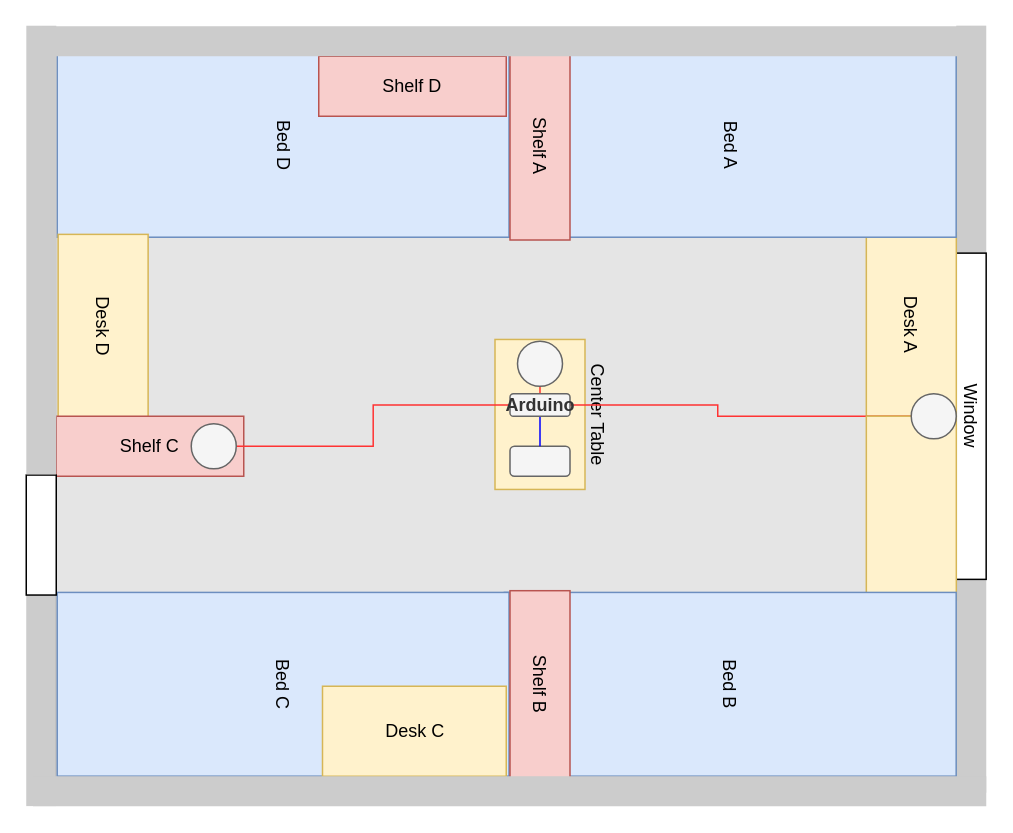
Some shapes in this 1013 by 833 pixel diagram are drawn without their labels. Here are the shapes that lost their labels. From the top down, the centre of each, then its label:
the point at 539,363: S1
the point at 933,415: S3
the point at 213,445: S2
the point at 539,460: Computer
the point at 910,507: Desk B
the point at 40,534: Door
